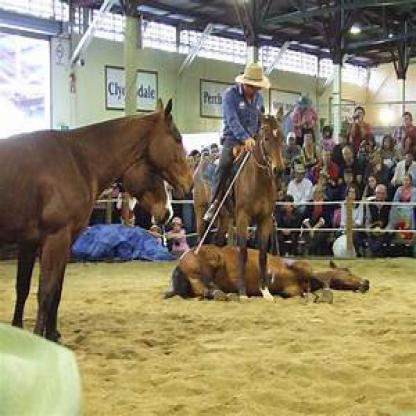horse: (0, 98, 197, 340), (194, 104, 286, 303), (168, 243, 370, 301)
